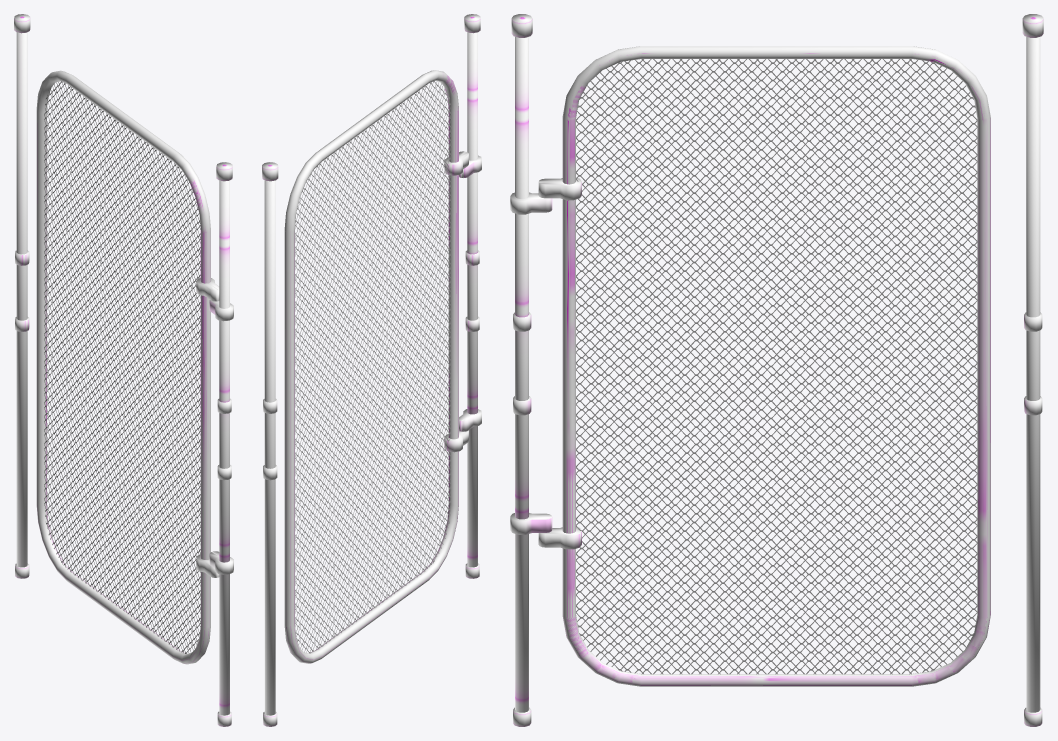
Rendered from fixedfence2.fbx.
3 renders of one model, left to right at view 1: azimuth 30°, elevation 25°; view 2: azimuth 150°, elevation 25°; view 3: azimuth 270°, elevation 25°, orthographic. The views are drawn at different scales.
Visible parts, largest first — view 1: Trim_Vents_GridFence_Door, Trim_Vents_GridFence_Doorfence; view 2: Trim_Vents_GridFence_Door, Trim_Vents_GridFence_Doorfence; view 3: Trim_Vents_GridFence_Door, Trim_Vents_GridFence_Doorfence.
Boxes of the visible parts, left/top/right/bottom form: Trim_Vents_GridFence_Door: left=36, top=70, right=219, bottom=664; Trim_Vents_GridFence_Doorfence: left=14, top=14, right=233, bottom=726; Trim_Vents_GridFence_Door: left=284, top=70, right=468, bottom=663; Trim_Vents_GridFence_Doorfence: left=262, top=14, right=481, bottom=726; Trim_Vents_GridFence_Door: left=538, top=46, right=990, bottom=686; Trim_Vents_GridFence_Doorfence: left=510, top=14, right=1043, bottom=726.
Bounding box in the file's own units: 6.08 × 206 × 142.
